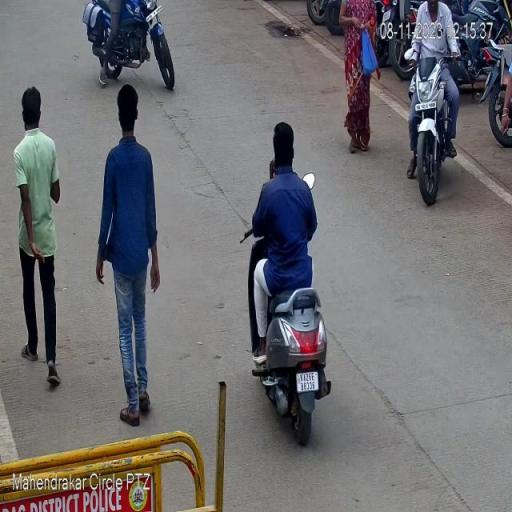using mobile: (268, 148, 282, 182)
